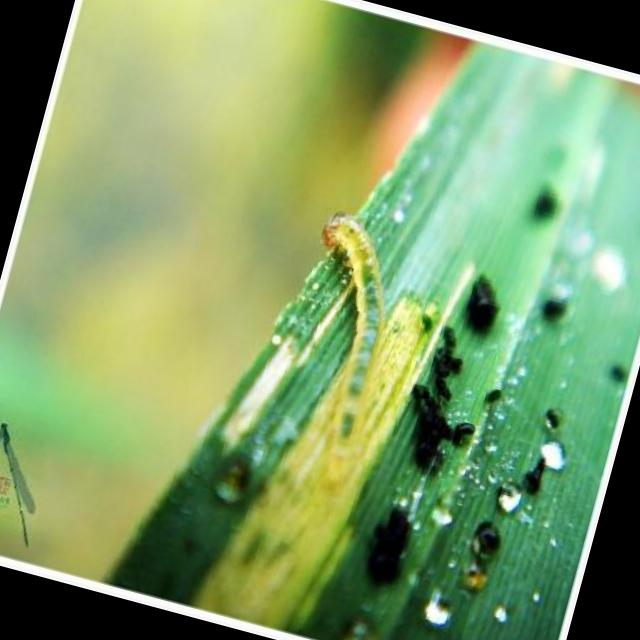leaf-folder: (238, 158, 464, 512)
